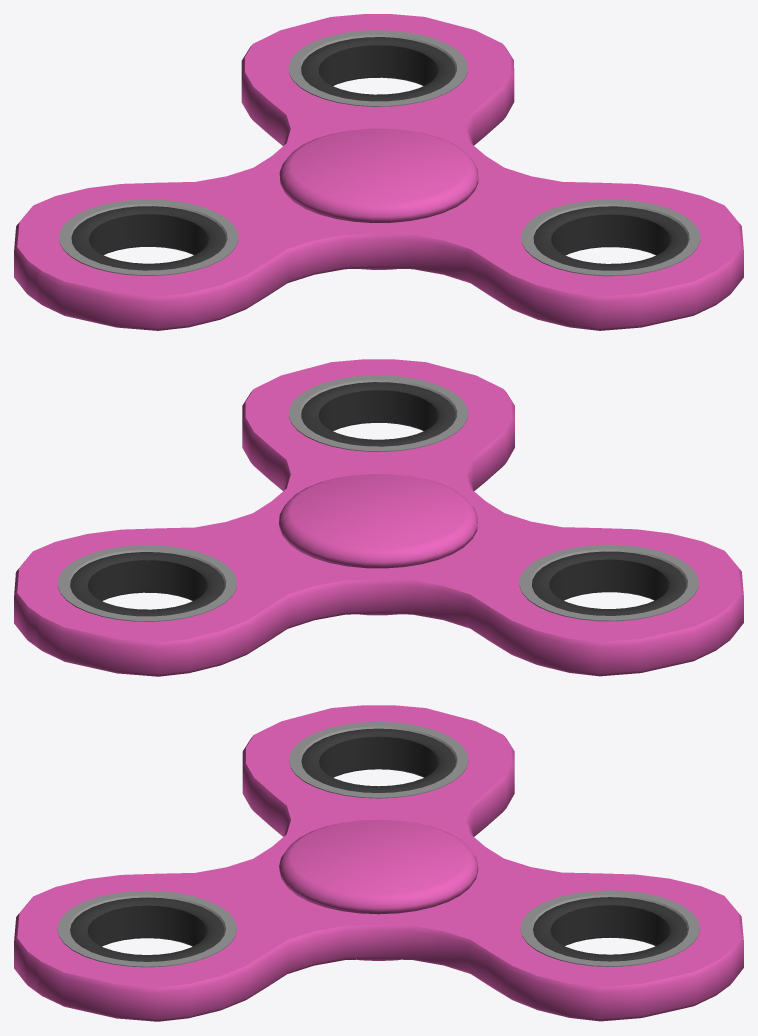
Rendered from fidgetSpinner.fbx.
3 views of the same model, one above another, from view 1: azimuth 30°, elevation 25°; view 2: azimuth 150°, elevation 25°; view 3: azimuth 270°, elevation 25° (orthographic).
Visible parts, largest first — view 1: Fidget Spinner, Fidget Spinner Center; view 2: Fidget Spinner, Fidget Spinner Center; view 3: Fidget Spinner, Fidget Spinner Center.
Part boxes in pixels (x1,y1,x2,y2): Fidget Spinner: [14, 14, 743, 330]; Fidget Spinner Center: [279, 128, 478, 269]; Fidget Spinner: [14, 359, 743, 676]; Fidget Spinner Center: [279, 474, 477, 615]; Fidget Spinner: [14, 705, 743, 1021]; Fidget Spinner Center: [279, 819, 478, 960].
Bounding box in the file's own units: 133 × 14.52 × 143.
